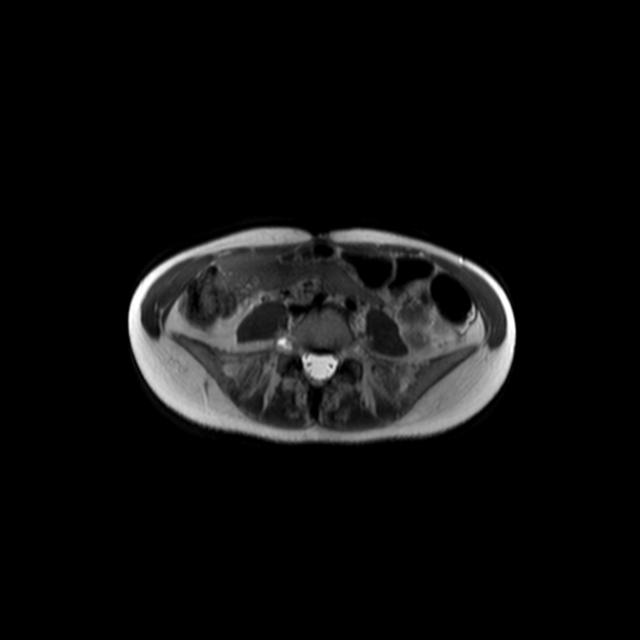sol: (398, 306, 437, 348)
